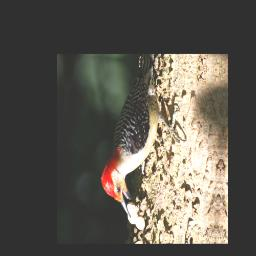Woodpecker: (99, 60, 194, 223)
